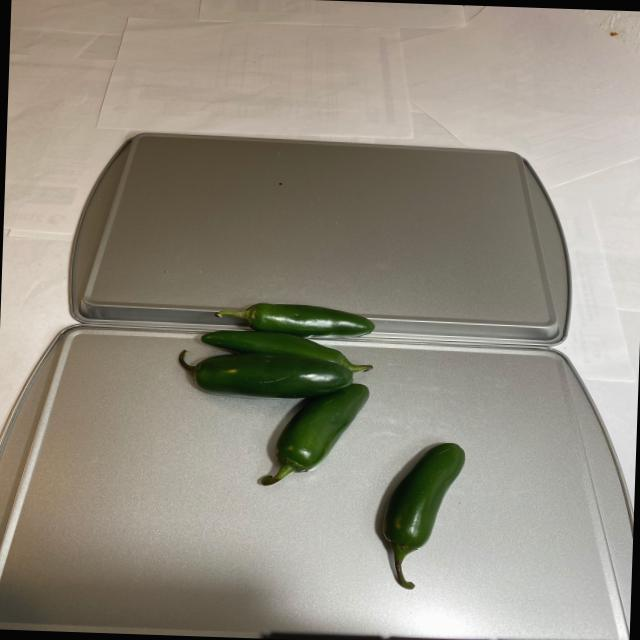chilli: (163, 298, 466, 594)
